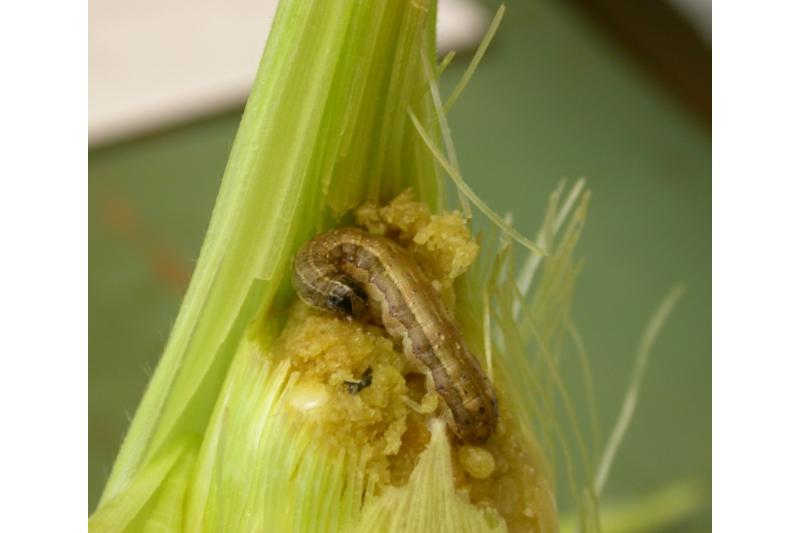fall-armyworm: (293, 228, 501, 449)
